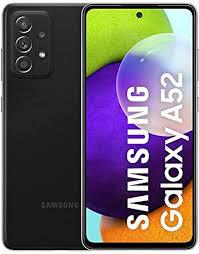Smartphone: (4, 5, 111, 249), (84, 9, 194, 243)
